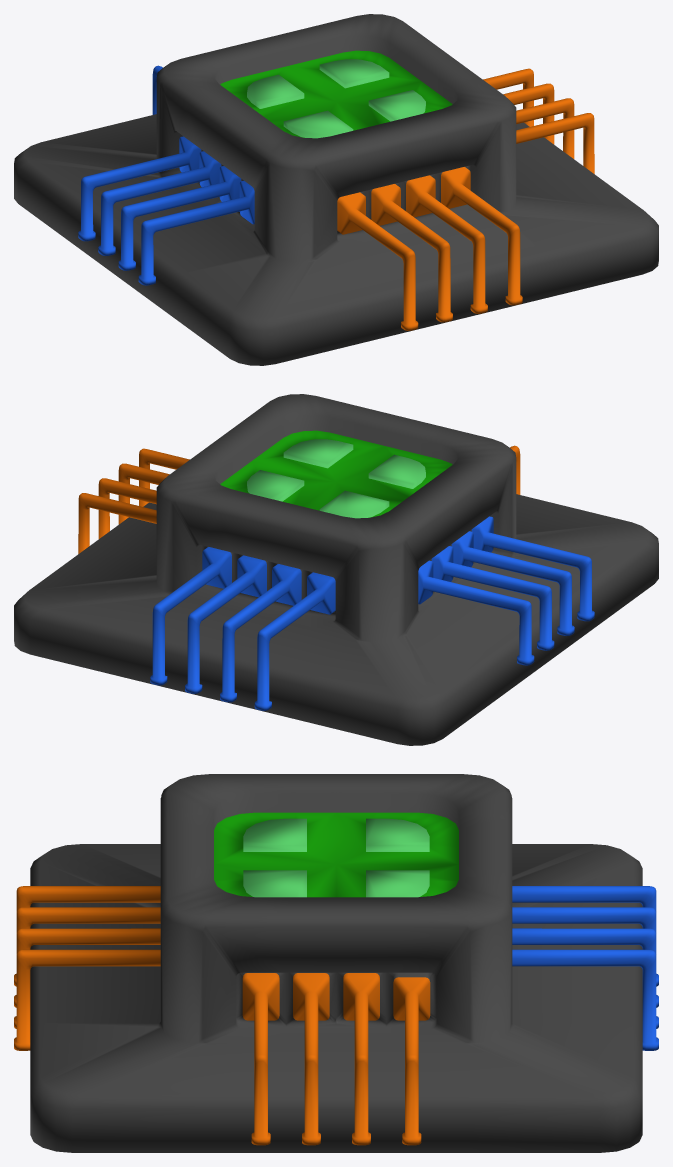
3 renders of one model, top to bottom at view 1: azimuth 30°, elevation 25°; view 2: azimuth 150°, elevation 25°; view 3: azimuth 270°, elevation 25°, orthographic. The views are drawn at different scales.
Visible parts, largest first — view 1: Cube; view 2: Cube; view 3: Cube.
Boxes of the visible parts, left/top/right/bottom form: Cube: left=14, top=14, right=658, bottom=365; Cube: left=14, top=394, right=658, bottom=745; Cube: left=14, top=774, right=658, bottom=1152.
Size of the model in its own units: 2.28 by 0.6851 by 2.25.
